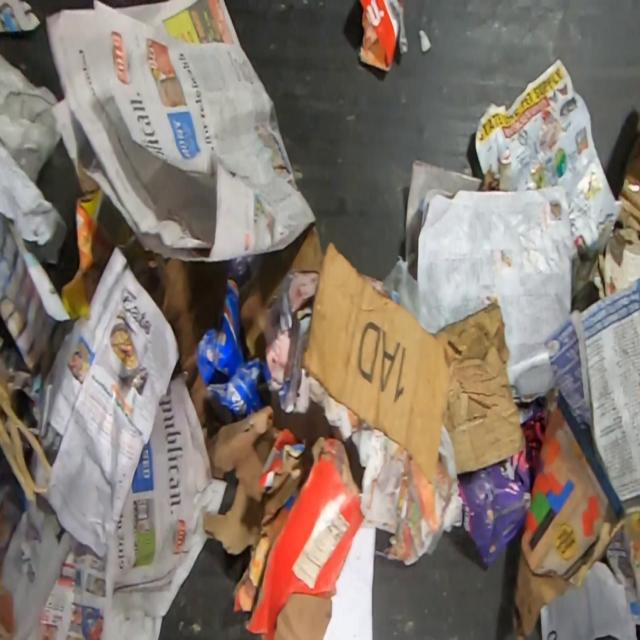cardboard: (300, 240, 526, 485), (508, 390, 630, 640), (231, 427, 365, 640), (192, 277, 273, 425), (60, 164, 131, 322), (202, 404, 274, 555), (288, 223, 324, 273)
soft_plastic: (457, 448, 532, 567)
